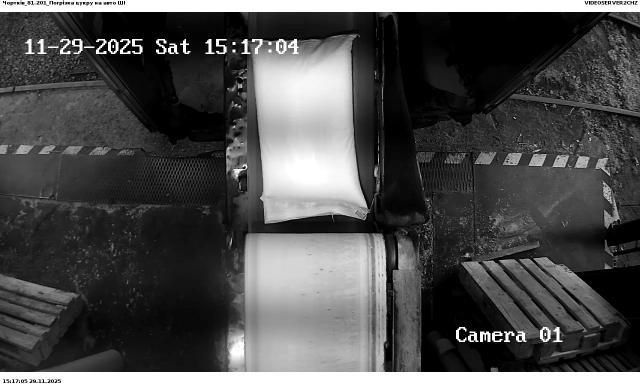bag: (247, 33, 369, 223)
